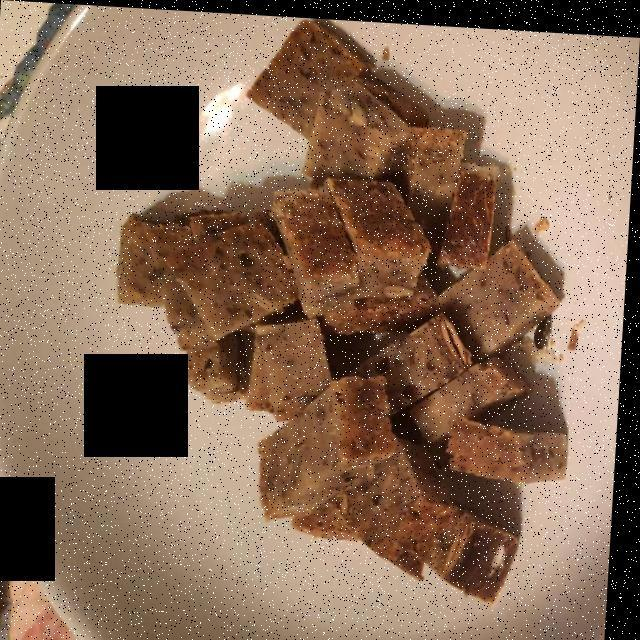bread: (101, 25, 563, 602)
